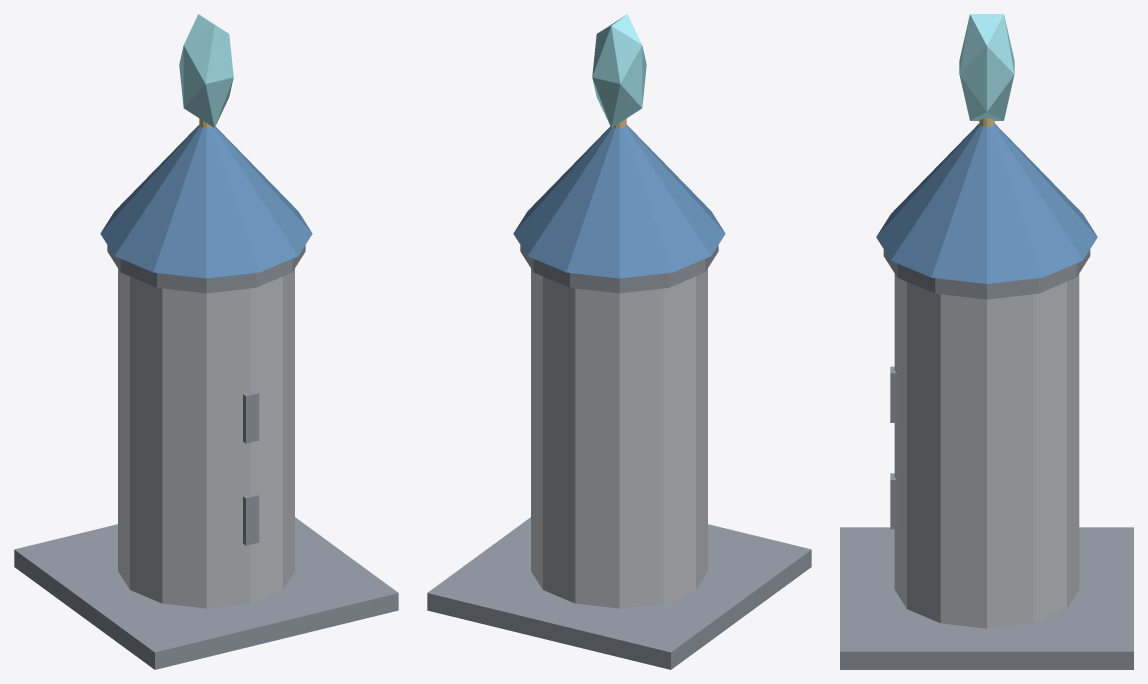
Rendered from torre_magica.glb.
The picture shows the model from 3 angles, left to right: view 1: azimuth 30°, elevation 25°; view 2: azimuth 150°, elevation 25°; view 3: azimuth 270°, elevation 25°; orthographic projection. The views are drawn at different scales.
Parts seen in each view (by area): view 1: world; view 2: world; view 3: world.
Boxes of the visible parts, box(x1,y1,x2,y2) form: world: box(14, 14, 398, 669); world: box(427, 14, 811, 669); world: box(840, 14, 1133, 669).
Bounding box in the file's own units: 3.5 × 7.8 × 3.5.
